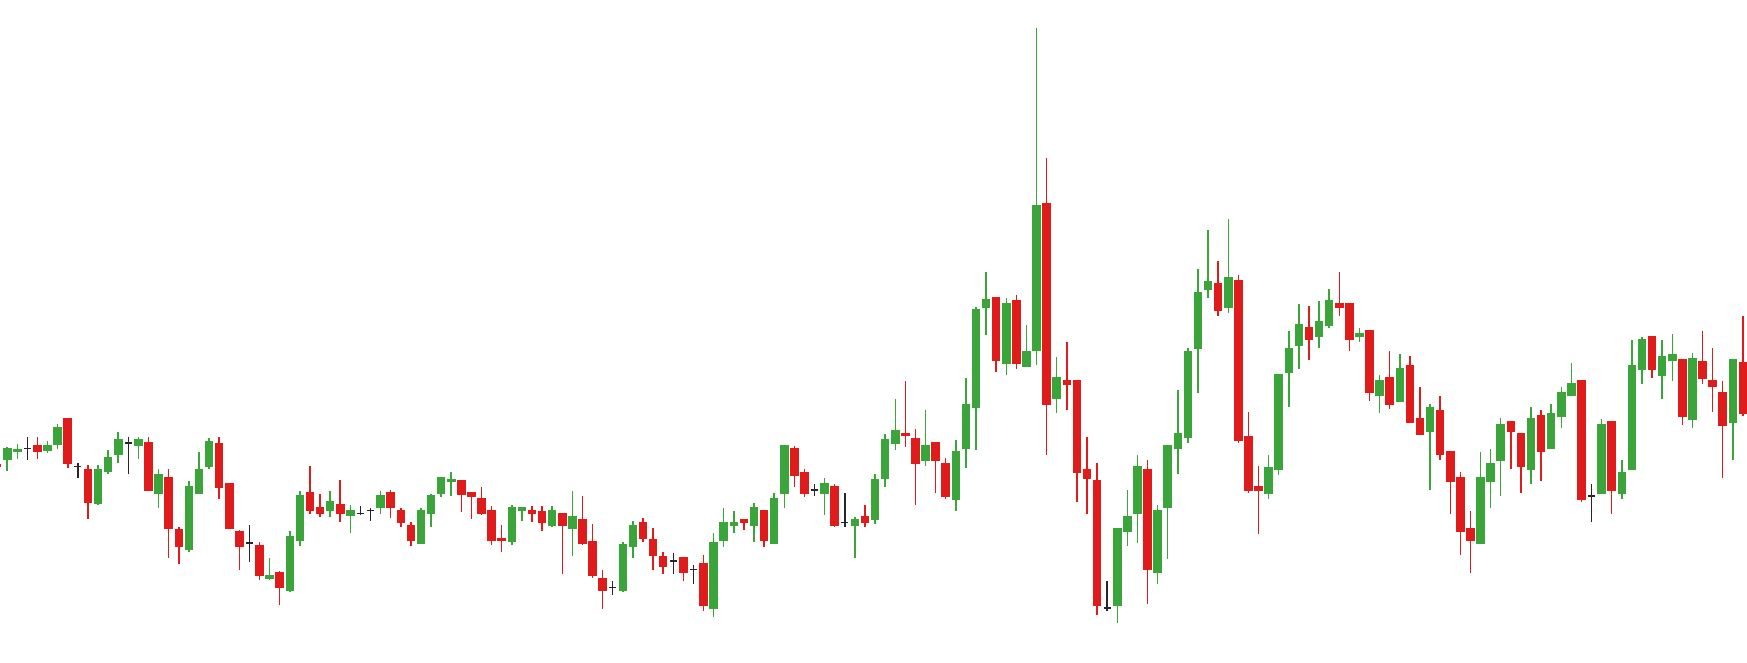buy: (848, 393, 1124, 625), (1517, 400, 1606, 526), (598, 543, 720, 620)
